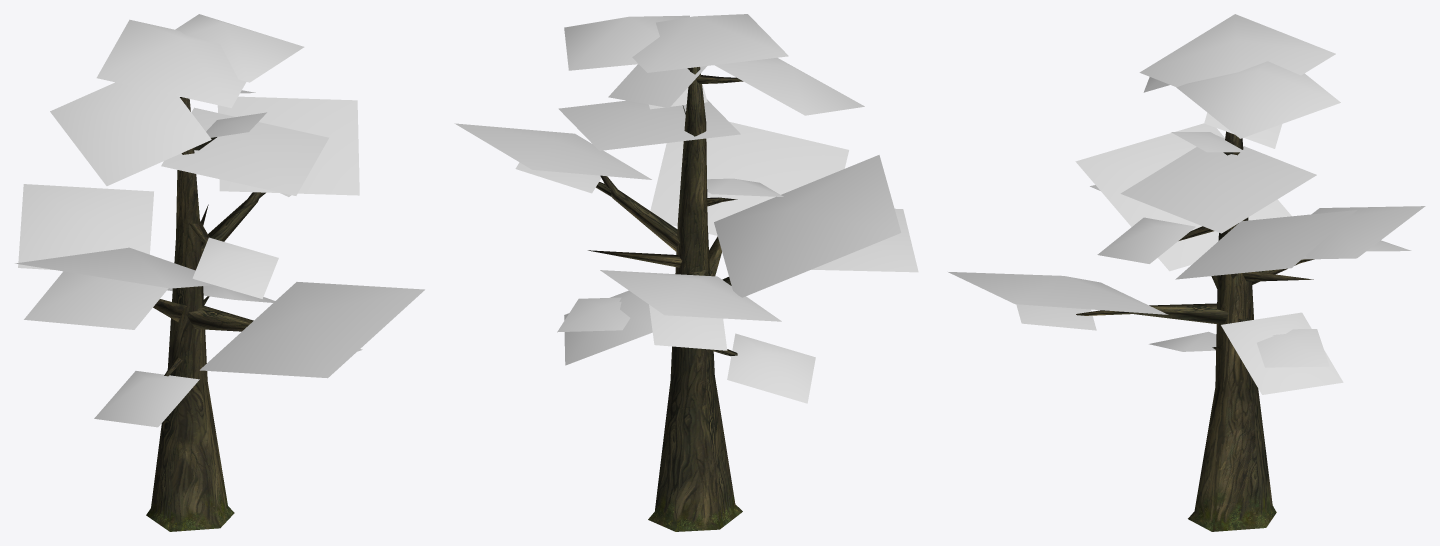
Rendered from BigTree1_NOLOD (1).fbx.
3 views of the same model, side by side, from view 1: azimuth 30°, elevation 25°; view 2: azimuth 150°, elevation 25°; view 3: azimuth 270°, elevation 25° (orthographic). The views are drawn at different scales.
Parts seen in each view (by area): view 1: bigtree1_LOD0; view 2: bigtree1_LOD0; view 3: bigtree1_LOD0.
Boxes of the visible parts, x1,y1,x2,y2 form: bigtree1_LOD0: (15, 14, 424, 531); bigtree1_LOD0: (454, 14, 918, 531); bigtree1_LOD0: (948, 14, 1425, 531).
Bounding box in the file's own units: 7811 × 9136 × 8378.
